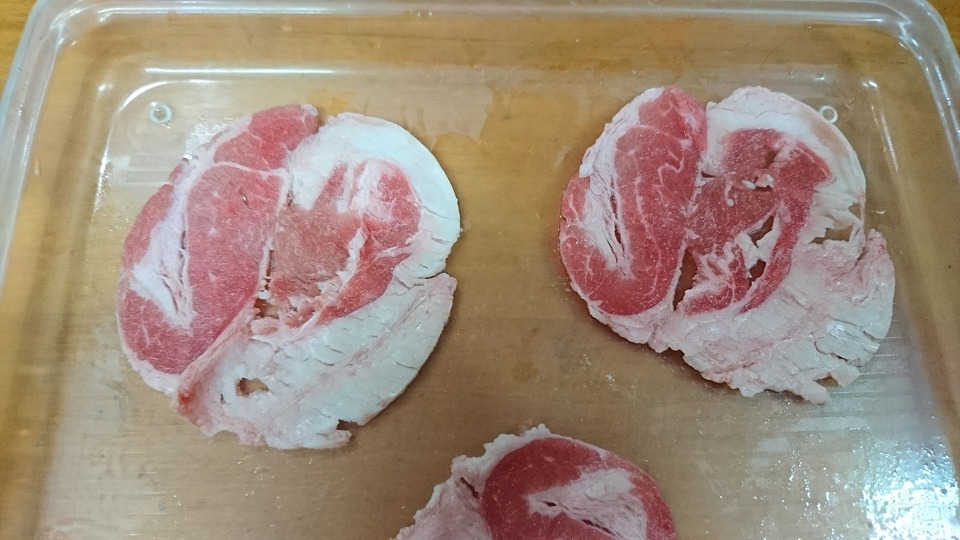restructured meat: (114, 100, 463, 451), (554, 53, 903, 404)
